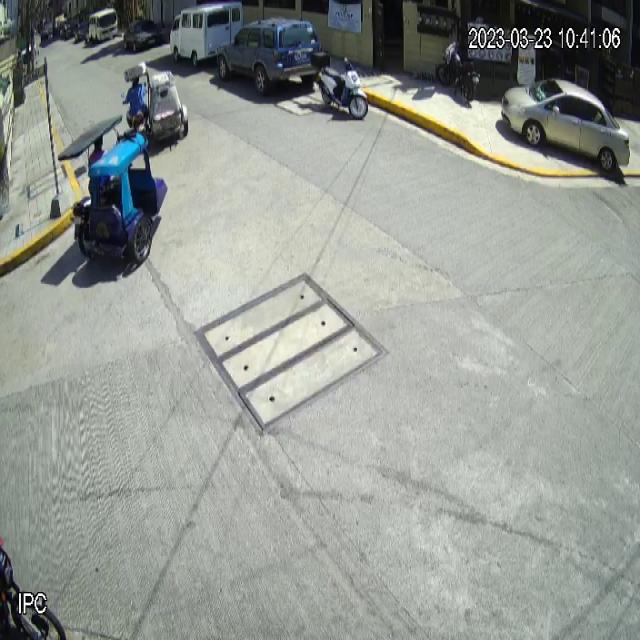Car: (501, 77, 630, 173), (217, 15, 322, 95)
Motorcycle: (310, 50, 369, 120)
Tricycle: (58, 115, 168, 263), (121, 62, 188, 142)
Van: (170, 1, 242, 68)
